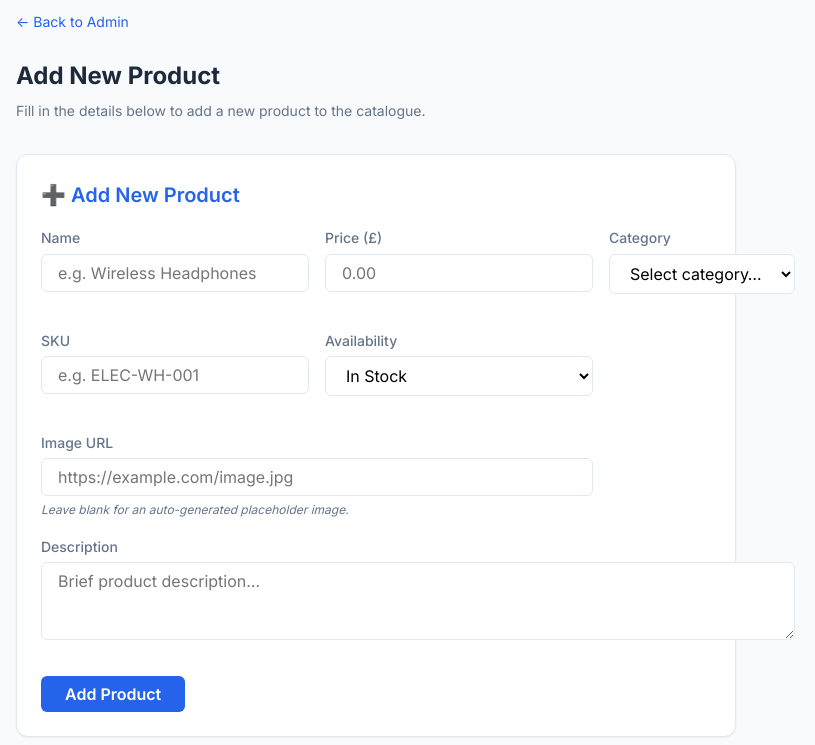
Admin — Add Product Page › shows validation error for empty product name
Type "10" into the number field labelled "Price (£)" at (459, 273), box [325,254,593,292]
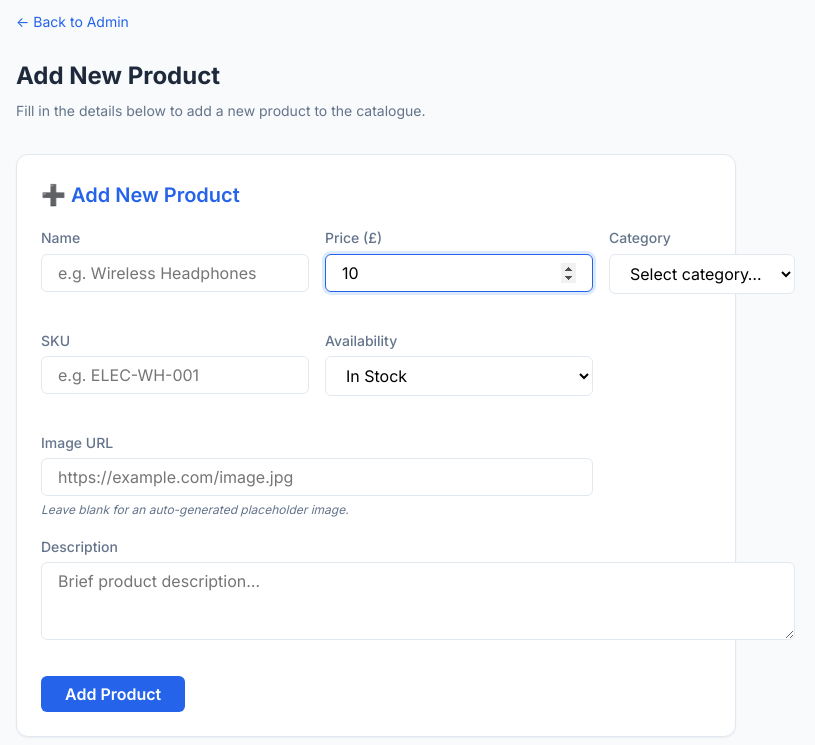
Select "Home" in the dropdown labelled "Category" at (702, 274), box [609,254,795,294]
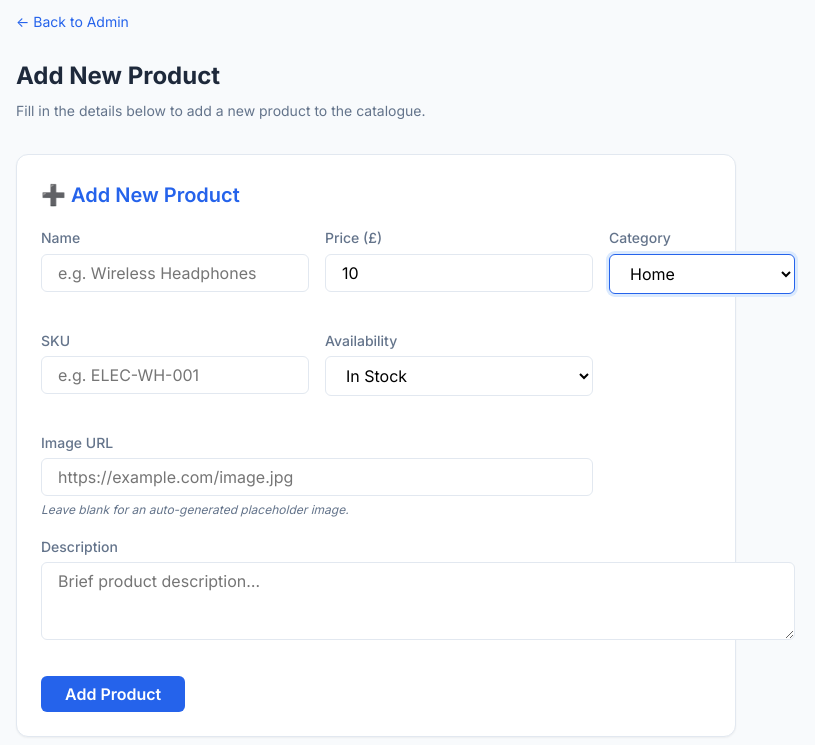
Type "TEST-001" into the field labelled "SKU" at (175, 375), box [41,356,309,394]
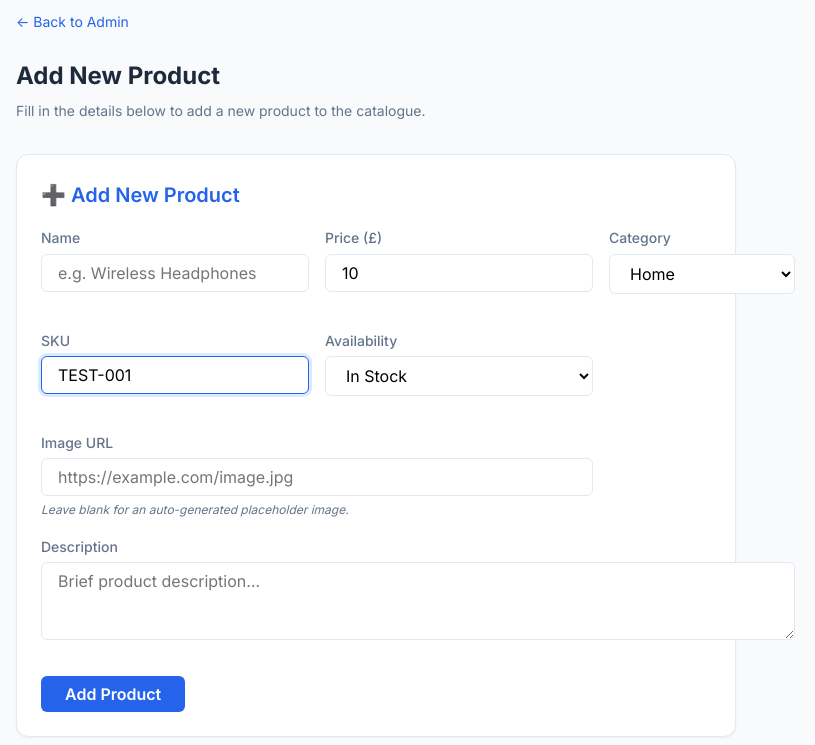
Type "desc" into the text box labelled "Description" at (418, 601), box [41,562,795,640]
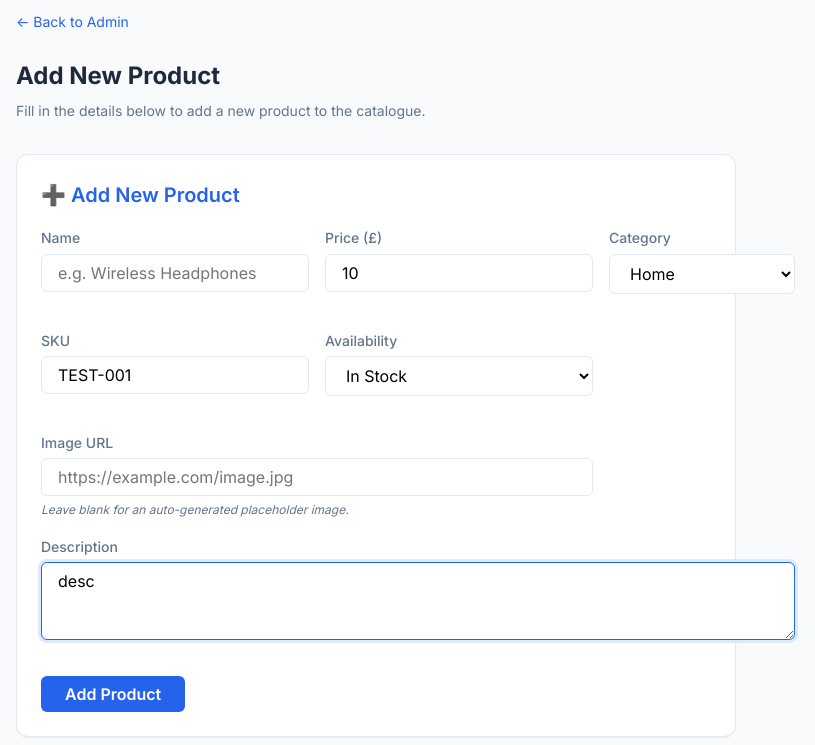
Click the button "Add Product" at (113, 694), box [41,676,185,712]
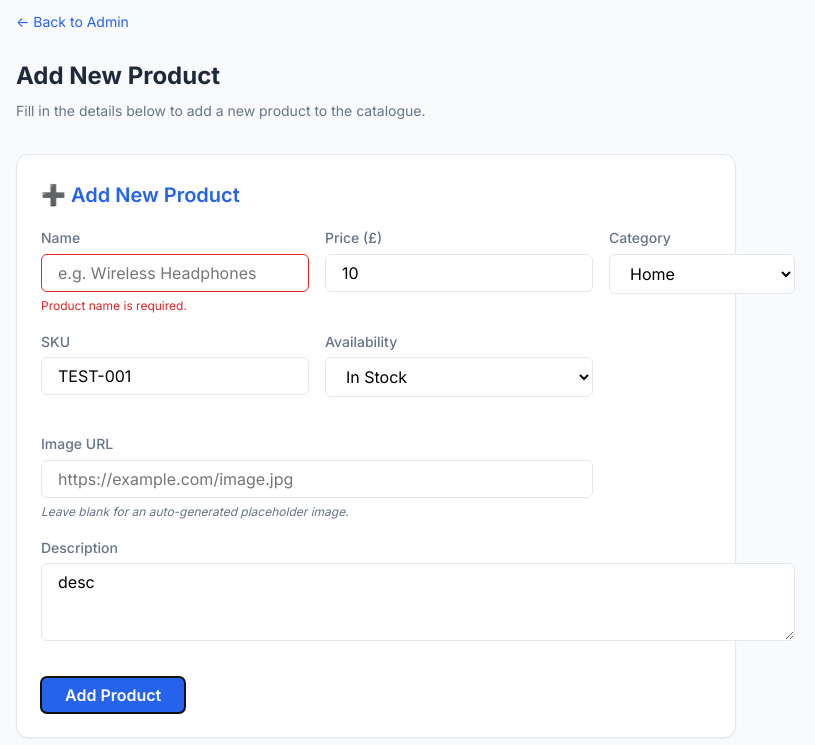
Now the text "Product name is required." is shown, box [41,298,187,313]
